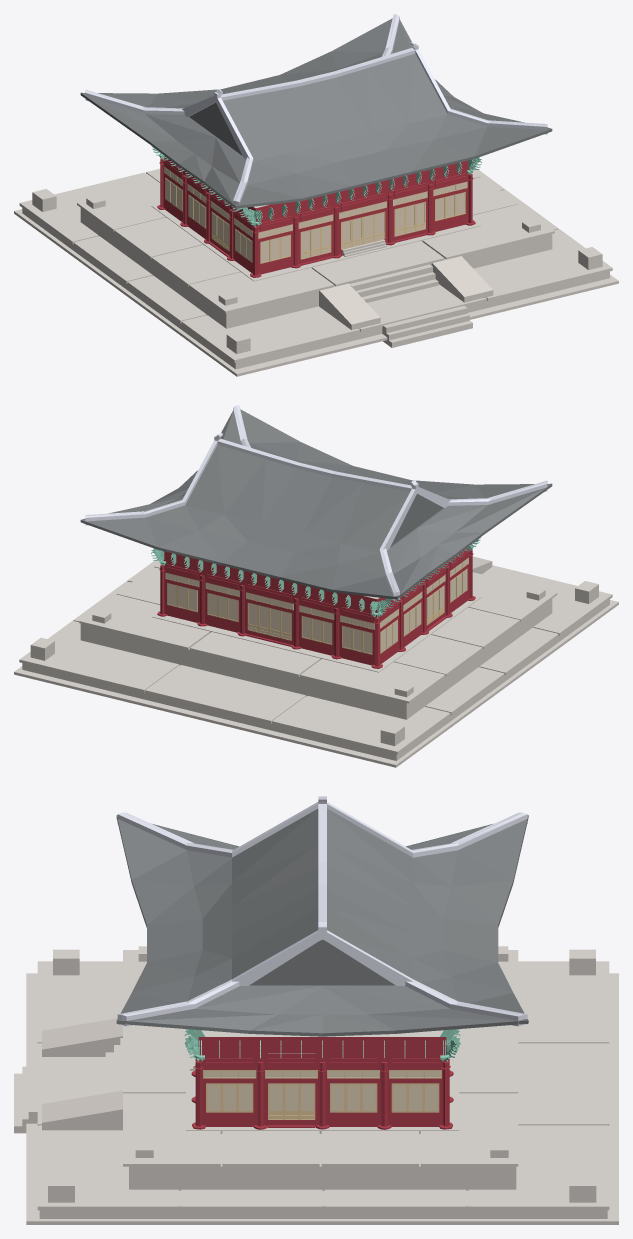
File: history.glb
The picture shows the model from 3 angles, top to bottom: view 1: azimuth 30°, elevation 25°; view 2: azimuth 150°, elevation 25°; view 3: azimuth 270°, elevation 25°; orthographic projection. The views are drawn at different scales.
Parts seen in each view (by area): view 1: Building-Roof, Building-Building, Cube, Building-tower, Cube2, Cube14, Cube3, Cube1, Cube21, Cube29, Cube9, Cube25 (+20 smaller); view 2: Building-Roof, Building-Building, Cube, Building-tower, Cube9, Cube13, Cube17, Cube3, Cube1, Cube24, Cube32, Cube28 (+14 smaller); view 3: Building-Roof, Building-Building, Building-tower, Cube, Cube17, Cube3, Cube14, Cube13, Cube9, Cube29, Cube32, Cube1 (+27 smaller).
Part boxes in pixels (bbox=[...]): Building-Roof: bbox=[80, 18, 552, 208]; Building-Building: bbox=[157, 156, 475, 277]; Cube: bbox=[80, 208, 552, 328]; Building-tower: bbox=[85, 14, 547, 209]; Cube2: bbox=[181, 306, 359, 362]; Cube14: bbox=[473, 229, 612, 300]; Cube3: bbox=[14, 209, 618, 376]; Cube1: bbox=[22, 173, 609, 369]; Cube21: bbox=[189, 268, 334, 313]; Cube29: bbox=[422, 204, 554, 259]; Cube9: bbox=[19, 172, 158, 244]; Cube25: bbox=[312, 241, 444, 286]; Building-Roof: bbox=[80, 409, 552, 599]; Building-Building: bbox=[157, 547, 475, 668]; Cube: bbox=[80, 599, 552, 719]; Building-tower: bbox=[85, 405, 547, 600]; Cube9: bbox=[272, 696, 450, 754]; Cube13: bbox=[146, 665, 305, 723]; Cube17: bbox=[19, 621, 179, 692]; Cube3: bbox=[14, 600, 618, 767]; Cube1: bbox=[22, 582, 609, 760]; Cube24: bbox=[300, 659, 445, 703]; Cube32: bbox=[79, 594, 210, 649]; Cube28: bbox=[190, 632, 320, 676]; Building-Roof: bbox=[116, 808, 528, 1036]; Building-Building: bbox=[191, 1037, 453, 1129]; Building-tower: bbox=[117, 796, 527, 1053]; Cube: bbox=[129, 1134, 516, 1190]; Cube17: bbox=[468, 1125, 609, 1210]; Cube3: bbox=[26, 973, 618, 1224]; Cube14: bbox=[37, 1125, 178, 1210]; Cube13: bbox=[518, 1043, 609, 1125]; Cube9: bbox=[518, 961, 609, 1043]; Cube29: bbox=[123, 1093, 220, 1166]; Cube32: bbox=[420, 1093, 518, 1166]; Cube1: bbox=[39, 1125, 607, 1218].
Bounding box in the file's own units: 11.07 × 5.16 × 11.41.
